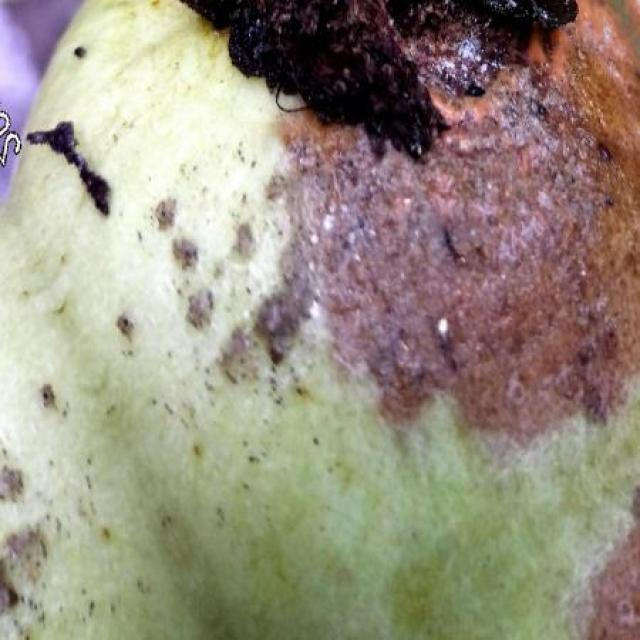Styler and Root: (0, 0, 640, 639)
